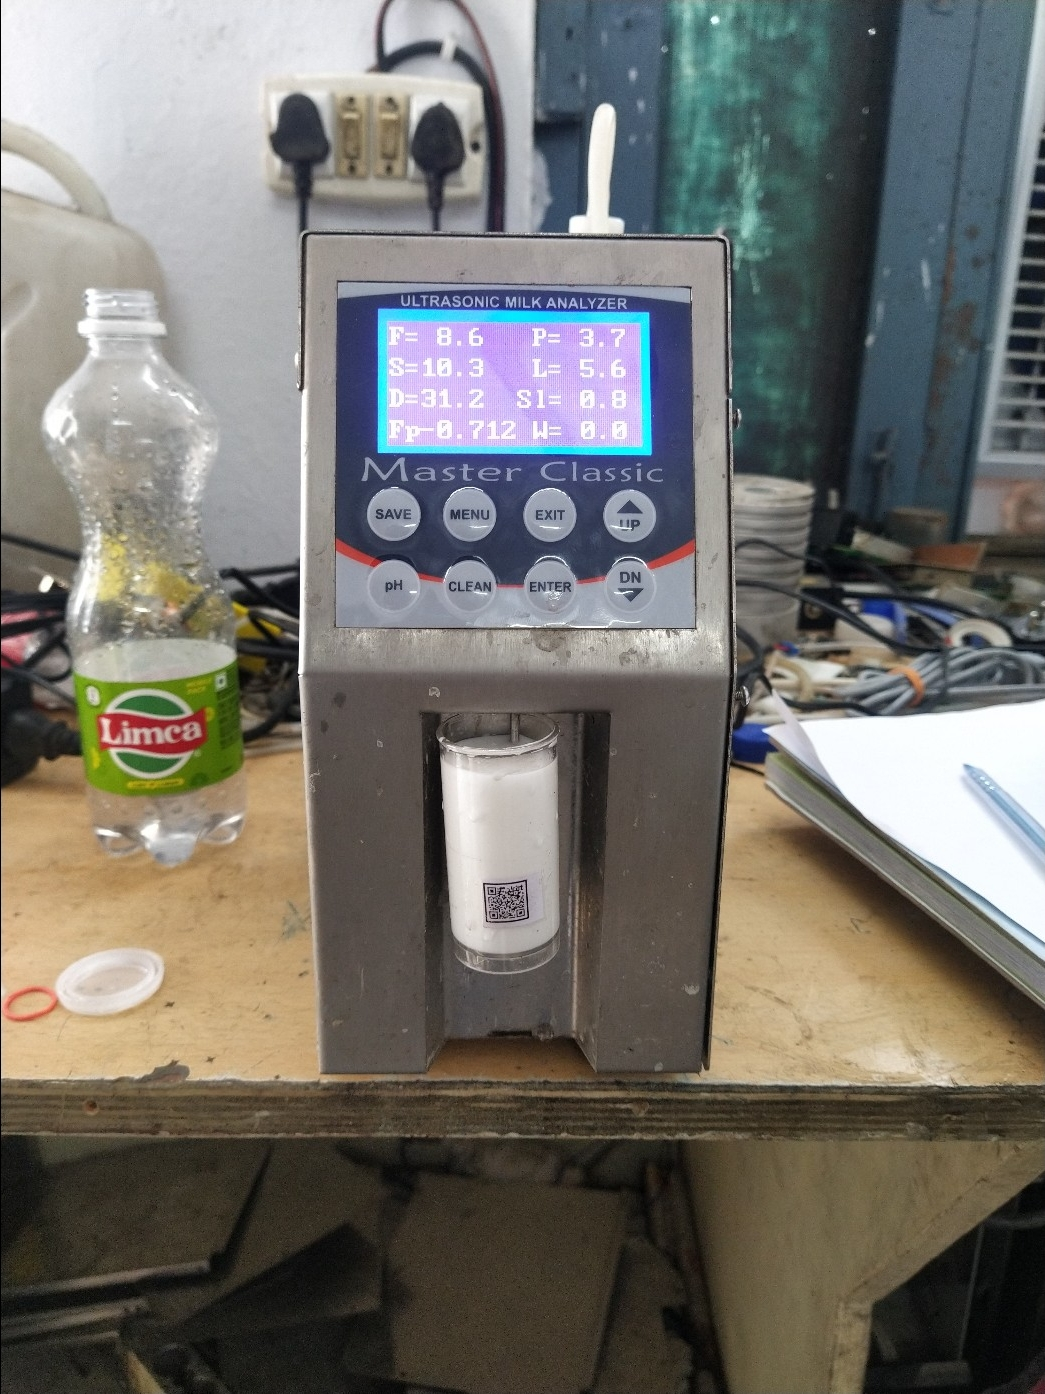lcd: (372, 303, 662, 464)
qr: (477, 869, 564, 937)
